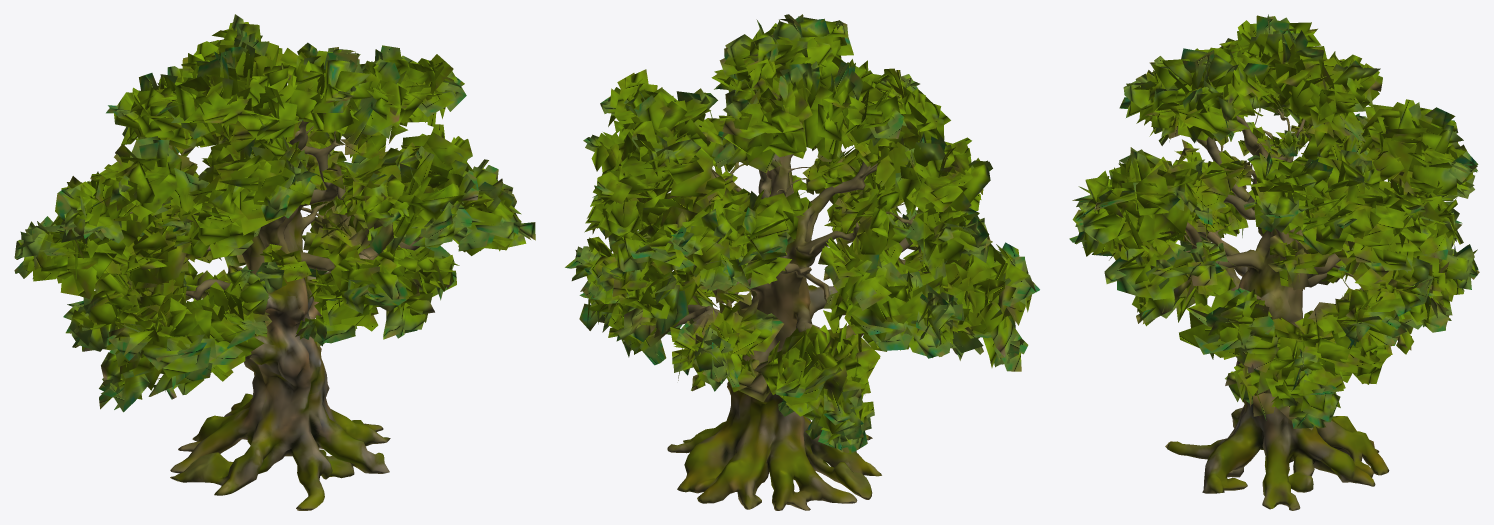
Rendered from meadow_0.glb.
3 views of the same model, side by side, from view 1: azimuth 30°, elevation 25°; view 2: azimuth 150°, elevation 25°; view 3: azimuth 270°, elevation 25° (orthographic). The views are drawn at different scales.
Visible parts, largest first — view 1: geometry_0; view 2: geometry_0; view 3: geometry_0.
Boxes of the visible parts, bbox=[...] form: geometry_0: bbox=[14, 14, 535, 510]; geometry_0: bbox=[565, 14, 1039, 510]; geometry_0: bbox=[1069, 14, 1479, 510].
Size of the model in its own units: 0.9536 by 0.9102 by 0.8066.
Materials: 1 (1 with a texture image).
